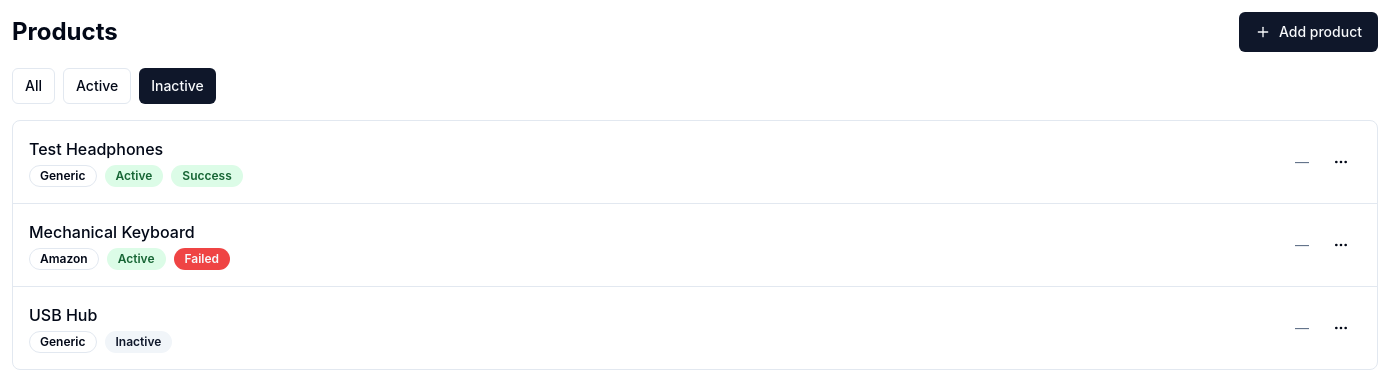
Test case: Dashboard › opens dropdown menu for a product
The image size is (1390, 387).
Expected: the link "Test Headphones" is shown, [29,139,163,159]
Click the button without text in the row of "Success" at [1341, 162], box [1321,142,1361,182]
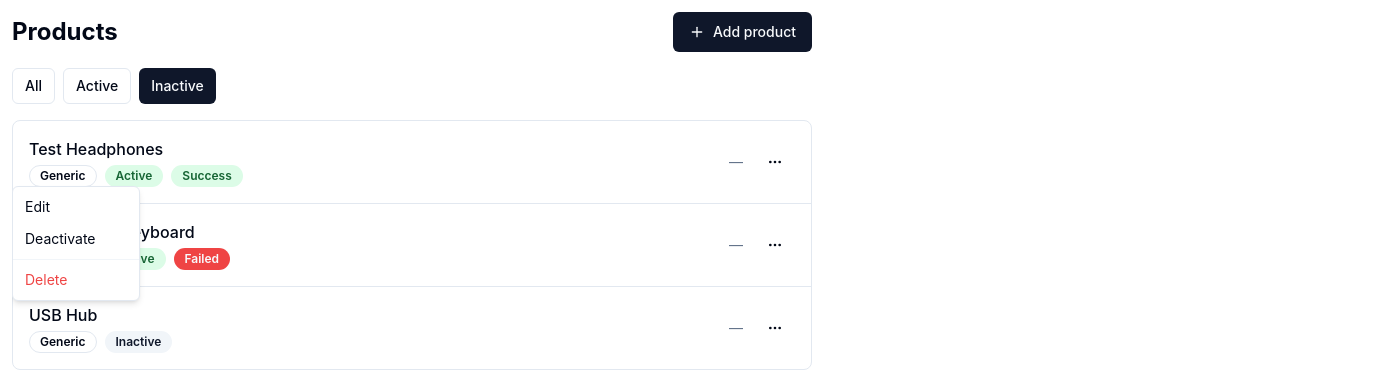
Result: the menu item "Edit" is shown at [25,198,50,215]
